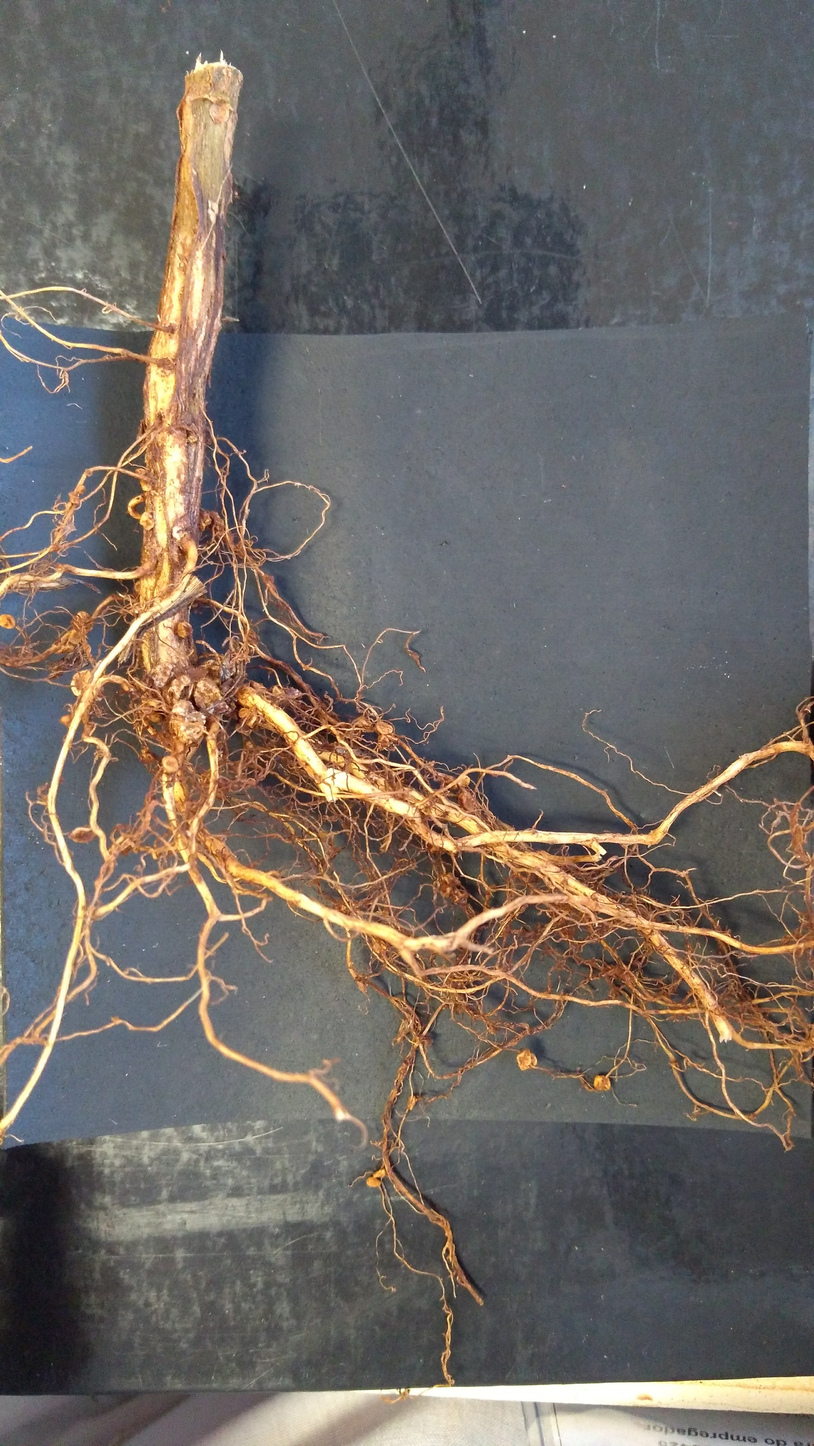nodule: (169, 696, 208, 745), (437, 871, 469, 906), (193, 676, 223, 711), (165, 673, 193, 706), (147, 660, 177, 688), (70, 667, 95, 697), (514, 1045, 539, 1075), (68, 824, 100, 846), (70, 609, 96, 633), (590, 1072, 616, 1095), (208, 507, 227, 537), (456, 789, 478, 814), (159, 754, 184, 775), (196, 505, 213, 533), (0, 611, 19, 632), (373, 717, 394, 736), (175, 620, 195, 639), (139, 509, 155, 532), (283, 686, 305, 702), (58, 630, 81, 645), (248, 678, 268, 694), (234, 722, 253, 738), (364, 1175, 384, 1190), (51, 640, 72, 654), (455, 772, 472, 789), (57, 712, 76, 727), (237, 706, 254, 722), (405, 1094, 420, 1112), (370, 1167, 389, 1180), (269, 685, 287, 696), (134, 580, 142, 593)
